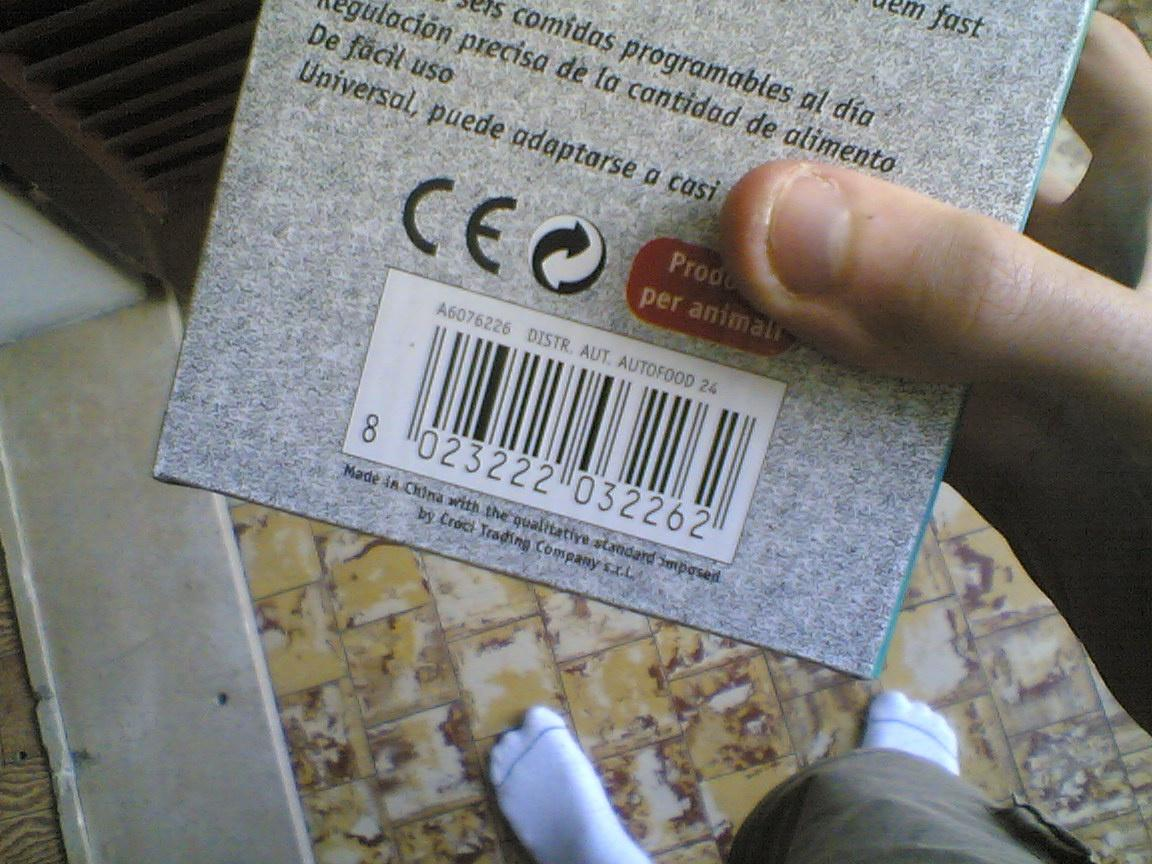Barcode: (334, 264, 792, 567)
